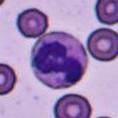N: (30, 31, 88, 88)
